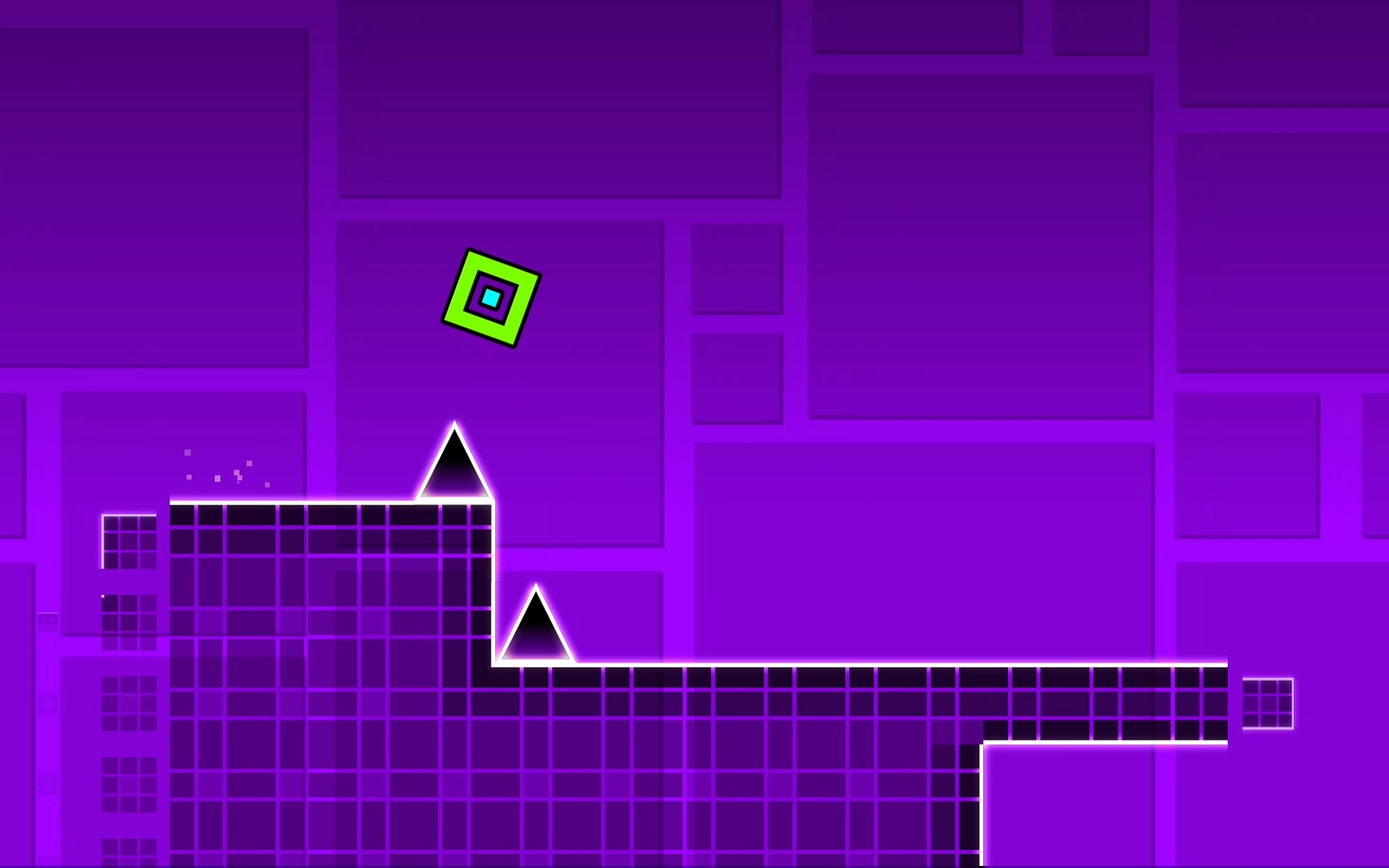Block2: (100, 500, 490, 868), (491, 665, 993, 868), (979, 663, 1231, 741), (1240, 677, 1294, 727)
Player: (442, 248, 540, 347)
Spike: (414, 421, 492, 501), (496, 584, 573, 663)
